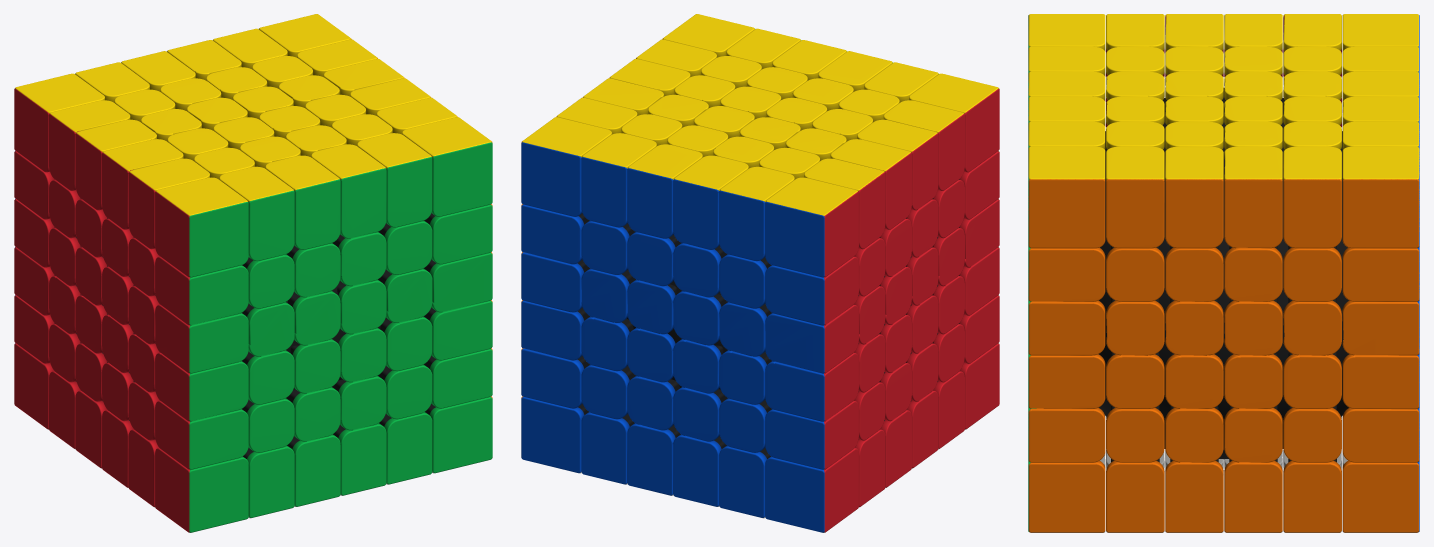
3 views of the same model, side by side, from view 1: azimuth 30°, elevation 25°; view 2: azimuth 150°, elevation 25°; view 3: azimuth 270°, elevation 25° (orthographic). The views are drawn at different scales.
Parts seen in each view (by area): view 1: piece_-2.5,2.5,2.5, piece_-2.5,-2.5,2.5, piece_2.5,2.5,2.5, piece_-2.5,0.5,2.5, piece_-2.5,-1.5,2.5, piece_-2.5,-0.5,2.5, piece_-2.5,1.5,2.5, piece_-0.5,2.5,2.5, piece_1.5,2.5,2.5, piece_-1.5,2.5,2.5, piece_0.5,2.5,2.5, piece_-2.5,2.5,-2.5 (+79 smaller); view 2: piece_-2.5,2.5,-2.5, piece_-2.5,-2.5,-2.5, piece_2.5,2.5,-2.5, piece_-2.5,-0.5,-2.5, piece_-2.5,1.5,-2.5, piece_-2.5,-1.5,-2.5, piece_-2.5,0.5,-2.5, piece_-1.5,2.5,-2.5, piece_0.5,2.5,-2.5, piece_1.5,2.5,-2.5, piece_-0.5,2.5,-2.5, piece_-2.5,2.5,2.5 (+79 smaller); view 3: piece_2.5,2.5,-2.5, piece_2.5,2.5,2.5, piece_2.5,2.5,0.5, piece_2.5,2.5,-1.5, piece_2.5,2.5,1.5, piece_2.5,2.5,-0.5, piece_2.5,-2.5,2.5, piece_2.5,-2.5,-2.5, interior_occlusion, piece_2.5,0.5,2.5, piece_2.5,-1.5,2.5, piece_2.5,-0.5,-2.5 (+55 smaller).
Boxes of the visible parts, x1,y1,x2,y2 form: piece_-2.5,2.5,2.5: (155, 177, 248, 277); piece_-2.5,-2.5,2.5: (155, 448, 248, 532); piece_2.5,2.5,2.5: (402, 117, 492, 216); piece_-2.5,0.5,2.5: (155, 304, 248, 373); piece_-2.5,-1.5,2.5: (155, 401, 248, 469); piece_-2.5,-0.5,2.5: (155, 352, 248, 421); piece_-2.5,1.5,2.5: (155, 256, 248, 325); piece_-0.5,2.5,2.5: (265, 155, 340, 249); piece_1.5,2.5,2.5: (357, 133, 432, 227); piece_-1.5,2.5,2.5: (219, 166, 294, 261); piece_0.5,2.5,2.5: (311, 144, 386, 238); piece_-2.5,2.5,-2.5: (14, 73, 104, 172); piece_-2.5,2.5,-2.5: (765, 177, 858, 277); piece_-2.5,-2.5,-2.5: (765, 448, 858, 532); piece_2.5,2.5,-2.5: (521, 117, 611, 216); piece_-2.5,-0.5,-2.5: (765, 352, 858, 421); piece_-2.5,1.5,-2.5: (765, 256, 858, 325); piece_-2.5,-1.5,-2.5: (765, 401, 858, 469); piece_-2.5,0.5,-2.5: (765, 304, 858, 373); piece_-1.5,2.5,-2.5: (719, 166, 794, 261); piece_0.5,2.5,-2.5: (627, 144, 702, 238); piece_1.5,2.5,-2.5: (581, 133, 656, 227); piece_-0.5,2.5,-2.5: (673, 155, 748, 249); piece_-2.5,2.5,2.5: (909, 73, 999, 172); piece_2.5,2.5,-2.5: (1342, 146, 1419, 248); piece_2.5,2.5,2.5: (1028, 146, 1105, 248); piece_2.5,2.5,0.5: (1165, 146, 1223, 248); piece_2.5,2.5,-1.5: (1283, 146, 1341, 248); piece_2.5,2.5,1.5: (1106, 146, 1164, 248); piece_2.5,2.5,-0.5: (1224, 146, 1282, 248); piece_2.5,-2.5,2.5: (1028, 461, 1105, 532); piece_2.5,-2.5,-2.5: (1342, 461, 1419, 532); interior_occlusion: (1099, 87, 1348, 459); piece_2.5,0.5,2.5: (1028, 300, 1105, 355); piece_2.5,-1.5,2.5: (1028, 408, 1105, 462); piece_2.5,-0.5,-2.5: (1342, 354, 1419, 409).
Size of the model in its own units: 2 by 2 by 2.
